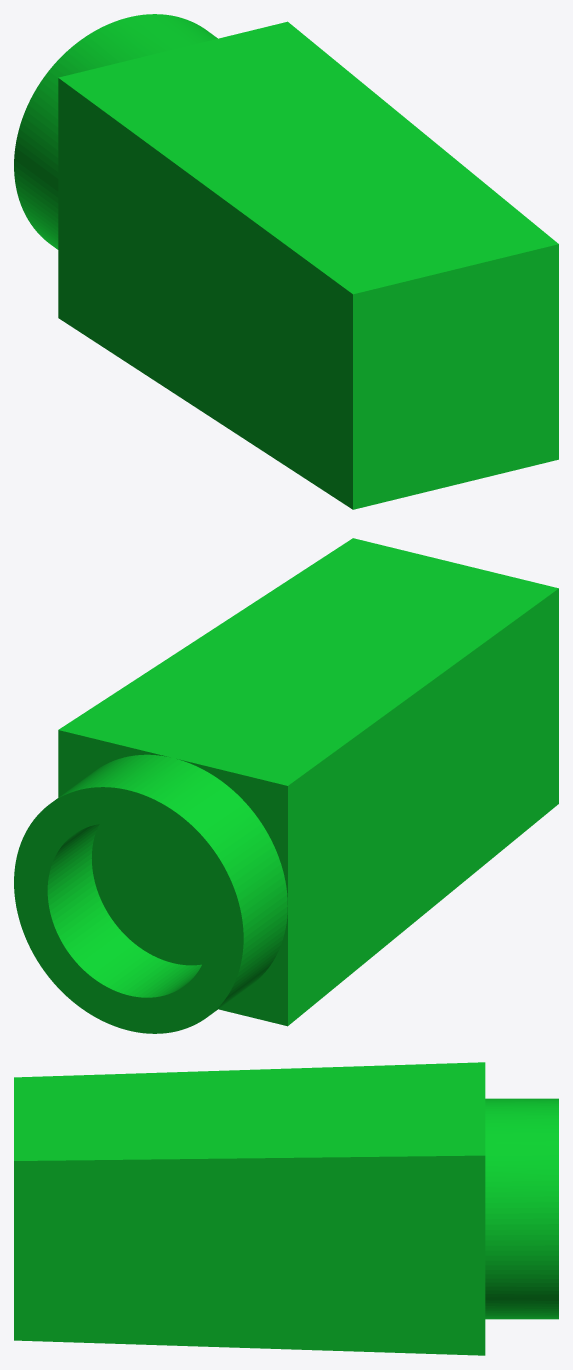
The picture shows the model from 3 angles, top to bottom: view 1: azimuth 30°, elevation 25°; view 2: azimuth 150°, elevation 25°; view 3: azimuth 270°, elevation 25°; orthographic projection. The views are drawn at different scales.
Parts seen in each view (by area): view 1: node; view 2: node; view 3: node.
Boxes of the visible parts, x1,y1,x2,y2 form: node: [14, 14, 558, 509]; node: [14, 538, 558, 1033]; node: [14, 1062, 558, 1355].
Size of the model in its own units: 0.0468 by 0.0468 by 0.1156.
